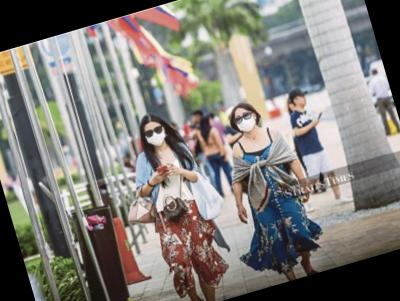with_mask: (143, 124, 169, 149), (233, 110, 258, 135)
without_mask: (294, 93, 309, 110)
